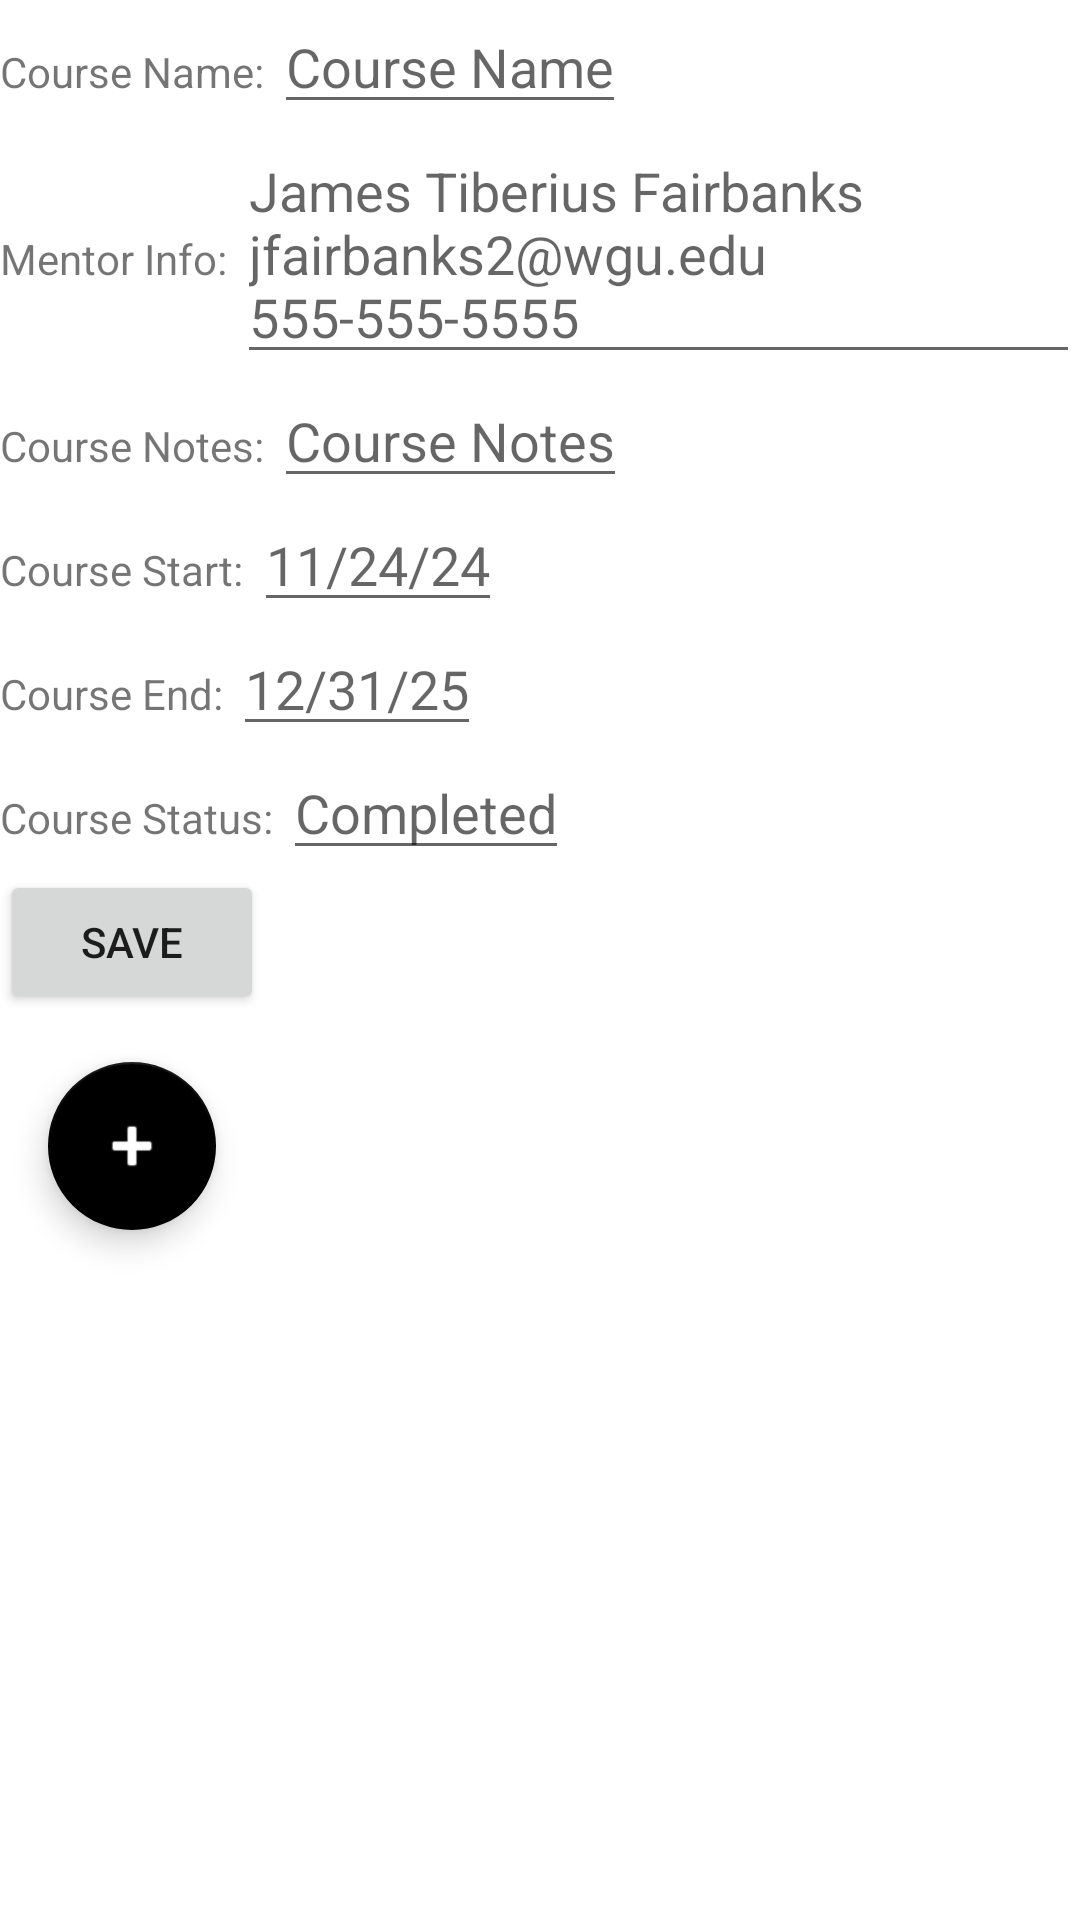

Icons on this 1080*1920 Android screen, each with the point to tap as (x,y):
add: (132,1146)
